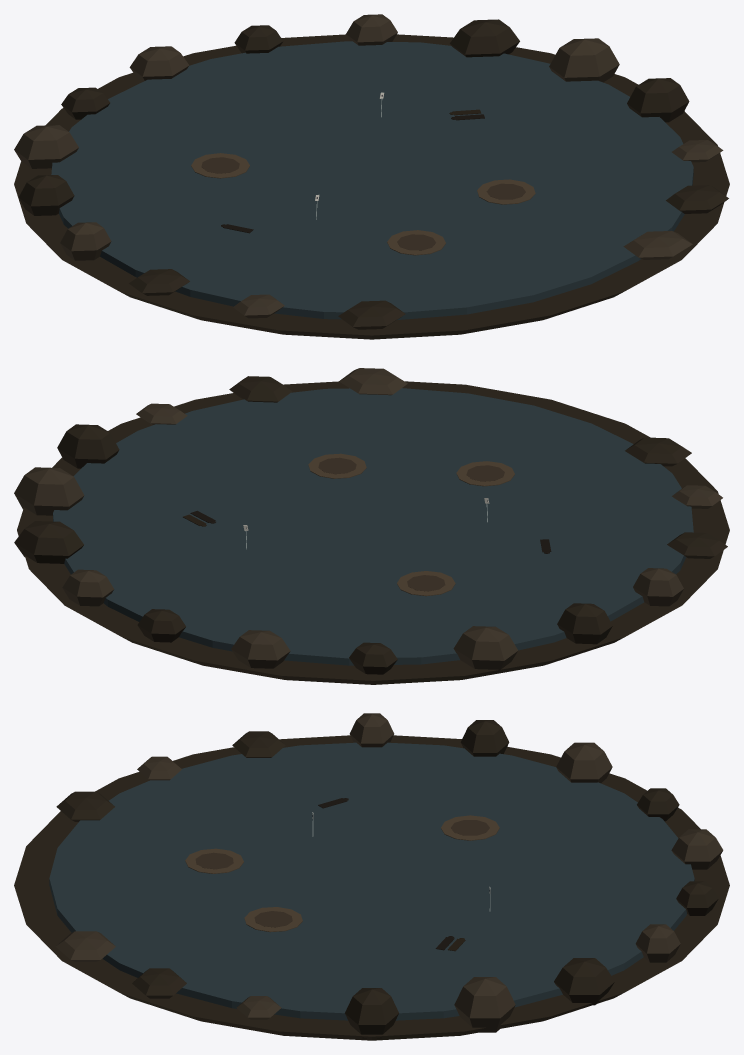
File: s3_arena_b21.glb
The picture shows the model from 3 angles, top to bottom: view 1: azimuth 30°, elevation 25°; view 2: azimuth 150°, elevation 25°; view 3: azimuth 270°, elevation 25°; orthographic projection.
Visible parts, largest first — view 1: s3_arena_b21; view 2: s3_arena_b21; view 3: s3_arena_b21.
Part boxes in pixels (<box>): s3_arena_b21: <box>14,14,729,339</box>; s3_arena_b21: <box>14,368,729,684</box>; s3_arena_b21: <box>14,713,729,1040</box>.
Bounding box in the file's own units: 36.44 × 2.92 × 36.4.
